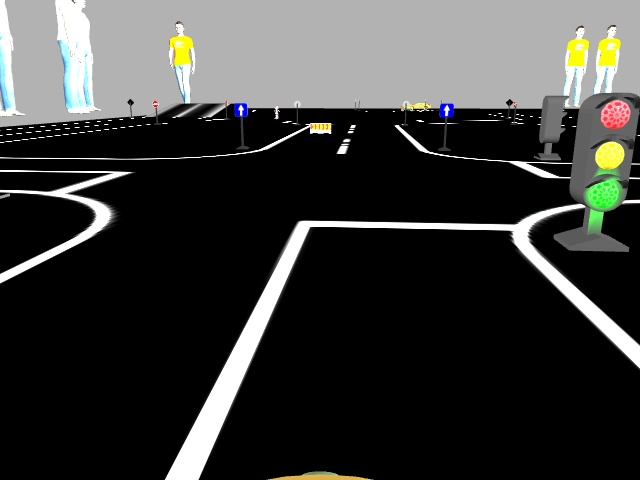ClosedRoadStand: (309, 122, 330, 134)
OneWay: (440, 102, 452, 116), (234, 102, 246, 116)
TrafficLight: (572, 86, 632, 212)
